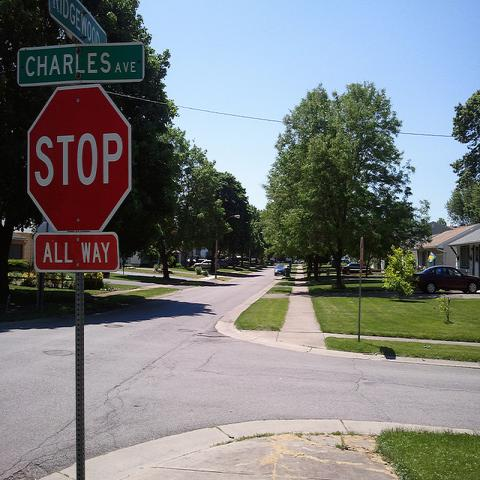car: (415, 265, 479, 295), (341, 262, 366, 273), (193, 260, 220, 269), (223, 257, 238, 267), (275, 264, 287, 276), (294, 260, 298, 264)
